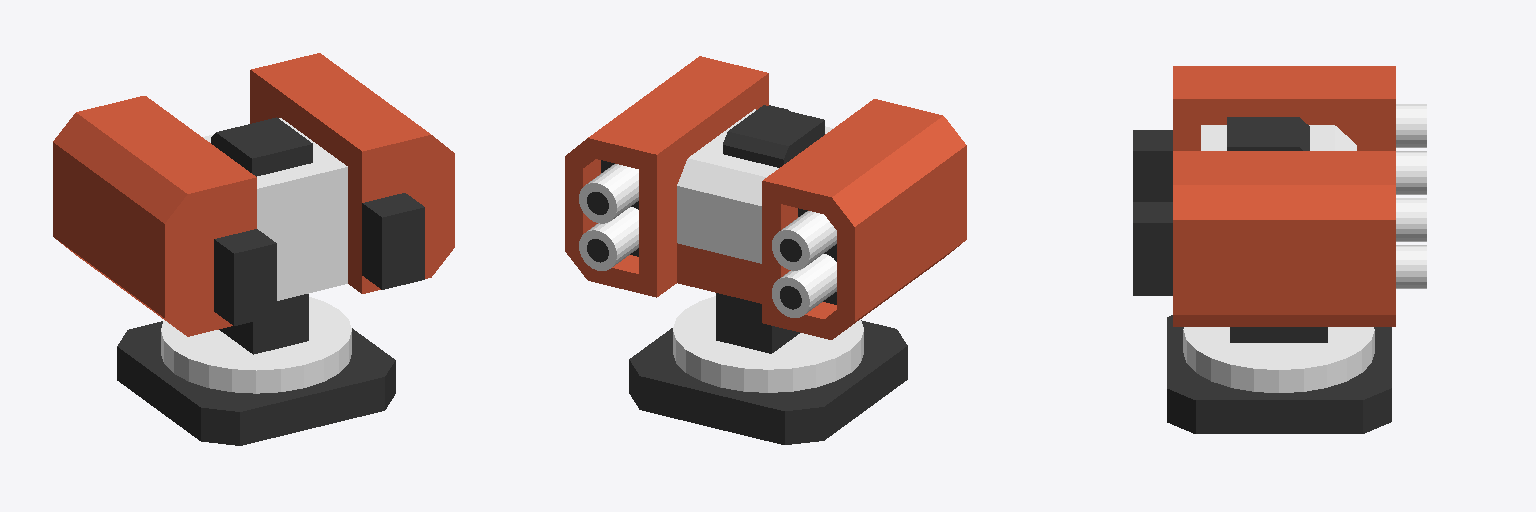
The model's file is turretDouble_exclusive.obj.
The picture shows the model from 3 angles: view 1: azimuth 30°, elevation 25°; view 2: azimuth 150°, elevation 25°; view 3: azimuth 270°, elevation 25°; orthographic projection.
Visible parts, largest first — view 1: turretDouble_exclusive, turretWeapon_left, turretWeapon_right; view 2: turretDouble_exclusive, turretWeapon_left, turretWeapon_right; view 3: turretWeapon_right, turretDouble_exclusive, turretWeapon_left.
Boxes of the visible parts, x1=… form: turretDouble_exclusive: x1=117, y1=117, x2=395, y2=445; turretWeapon_left: x1=53, y1=96, x2=276, y2=336; turretWeapon_right: x1=250, y1=53, x2=454, y2=293; turretDouble_exclusive: x1=629, y1=105, x2=907, y2=444; turretWeapon_left: x1=762, y1=99, x2=966, y2=339; turretWeapon_right: x1=565, y1=56, x2=788, y2=297; turretWeapon_right: x1=1133, y1=151, x2=1426, y2=326; turretDouble_exclusive: x1=1167, y1=117, x2=1391, y2=433; turretWeapon_left: x1=1133, y1=66, x2=1426, y2=201.
Size of the model in its own units: 6.58 by 5.67 by 5.79.